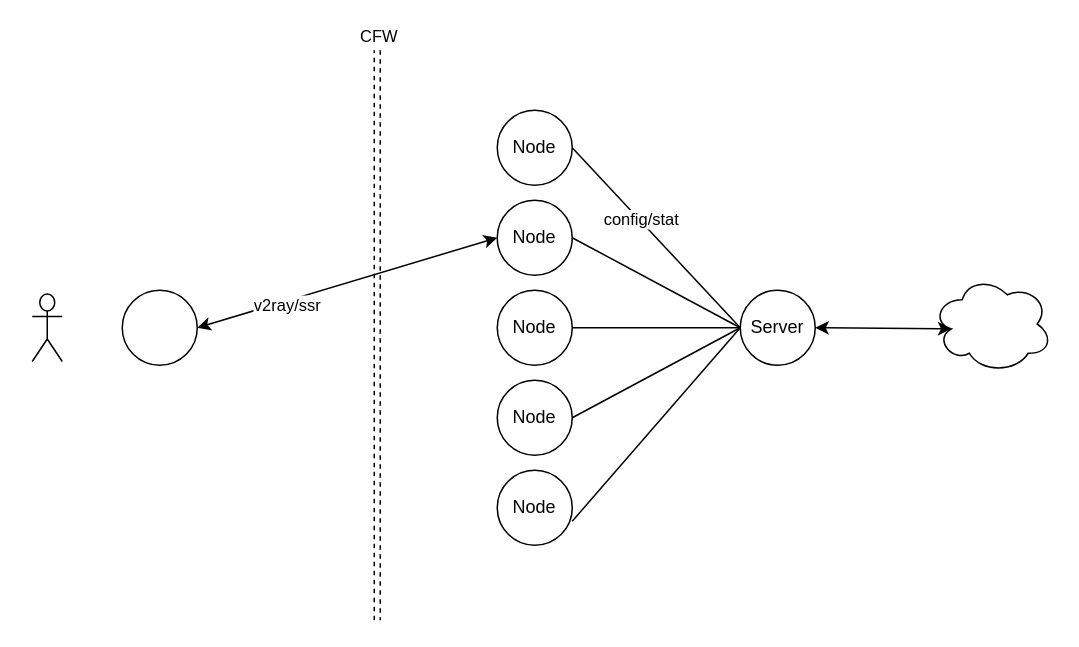
Image size: 1079x647. Some labels were removed from this diagram. Each missing label, with the box of its shape:
Actor: (31, 292, 62, 362)
Client: (121, 289, 197, 365)
Web: (931, 274, 1052, 373)
